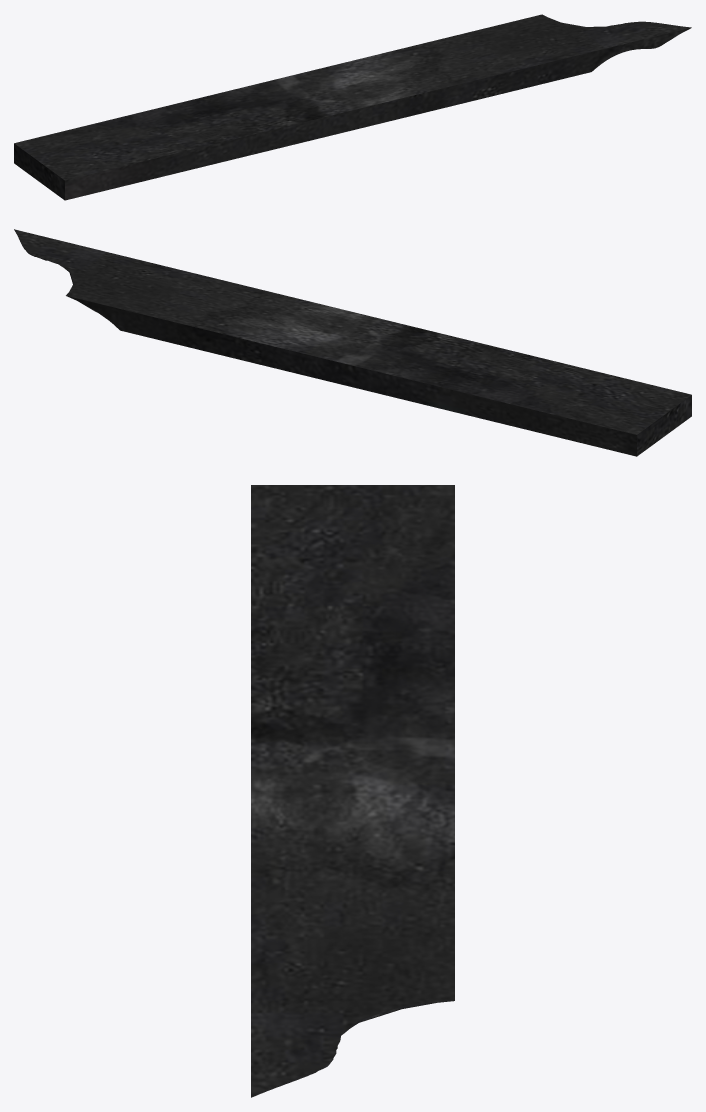
The model's file is SM_WoodBeam_08.fbx.
The picture shows the model from 3 angles, top to bottom: view 1: azimuth 30°, elevation 25°; view 2: azimuth 150°, elevation 25°; view 3: azimuth 270°, elevation 25°; orthographic projection. The views are drawn at different scales.
Parts seen in each view (by area): view 1: SM_WoodBeam_08; view 2: SM_WoodBeam_08; view 3: SM_WoodBeam_08.
Part boxes in pixels (box(x1,y1,x2,y2)): SM_WoodBeam_08: box(14, 14, 691, 200); SM_WoodBeam_08: box(14, 229, 691, 456); SM_WoodBeam_08: box(251, 485, 454, 1097).
Bounding box in the file's own units: 303 × 42.57 × 9.24.
Materials: 1 (1 with a texture image).
